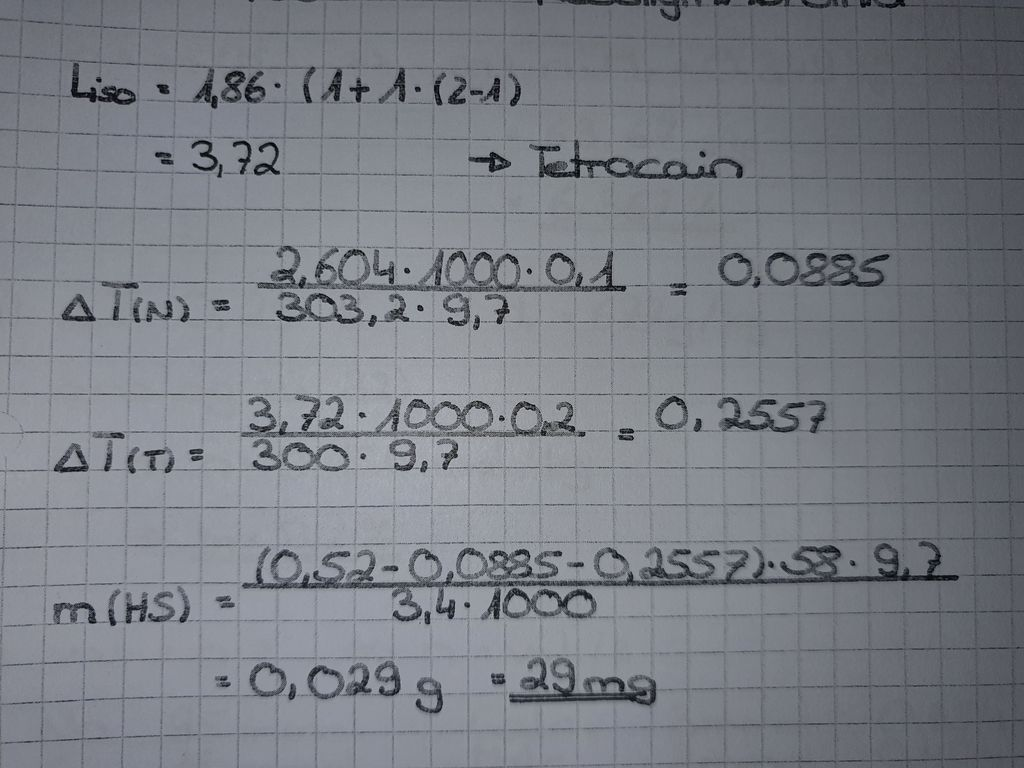equals: (189, 61, 525, 111), (609, 416, 643, 453), (202, 289, 242, 320), (662, 270, 694, 308), (143, 69, 178, 101), (211, 586, 241, 621), (471, 669, 516, 692), (211, 666, 240, 701), (149, 141, 181, 171), (183, 439, 208, 467)
equation: (54, 220, 898, 335), (35, 531, 969, 631), (43, 384, 847, 477), (206, 639, 661, 713), (67, 54, 547, 117), (134, 127, 298, 185)
fraction: (239, 535, 960, 621), (246, 226, 628, 332), (224, 394, 597, 471)
separator: (561, 553, 595, 575), (347, 73, 372, 101), (375, 556, 404, 576), (468, 79, 487, 103)
term: (244, 651, 453, 710), (713, 238, 893, 297), (654, 390, 835, 441), (509, 650, 655, 708), (62, 270, 194, 331), (46, 576, 191, 630), (44, 424, 181, 475), (187, 133, 285, 176), (71, 59, 143, 106)
